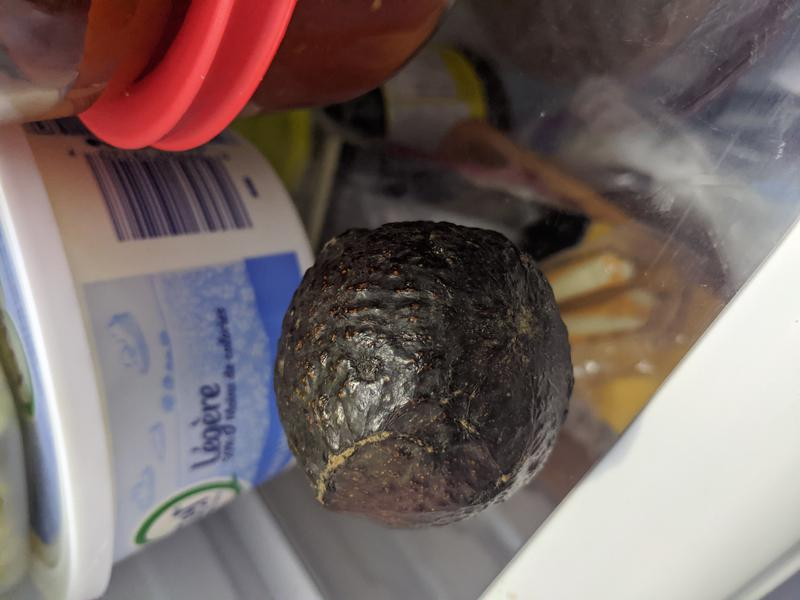avocado: (274, 221, 577, 530)
